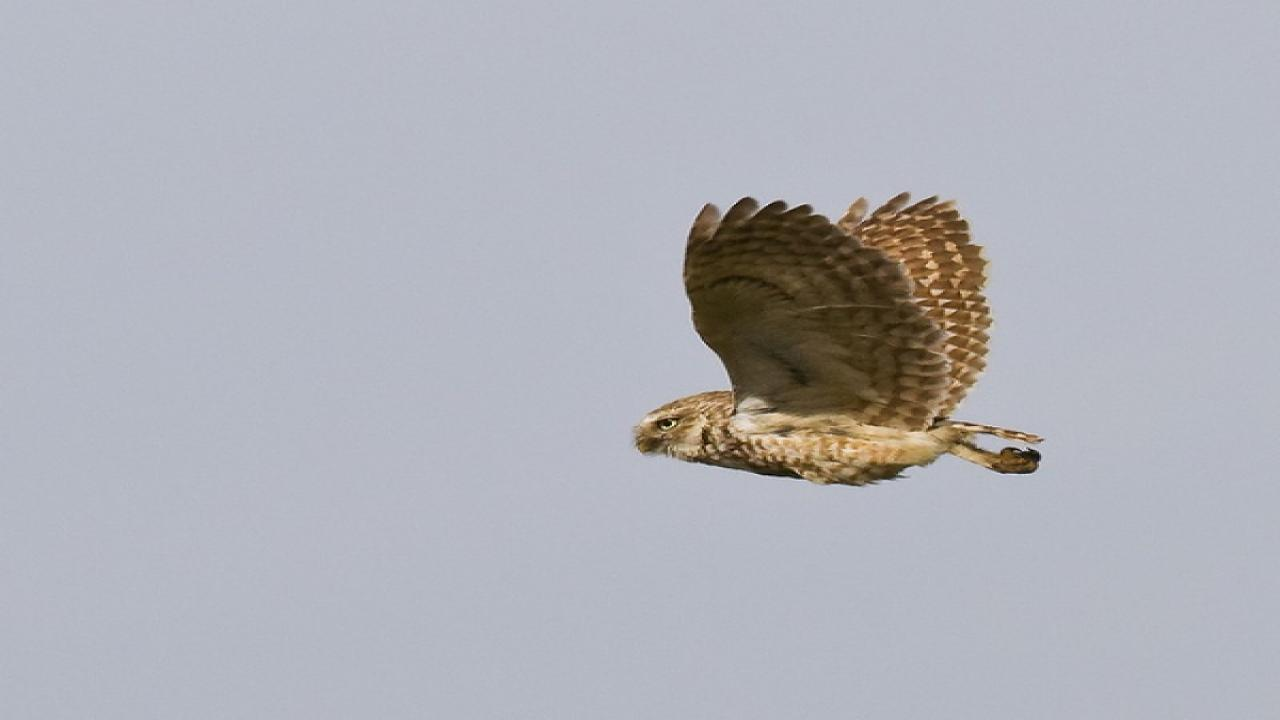Bird: (622, 185, 1068, 493)
